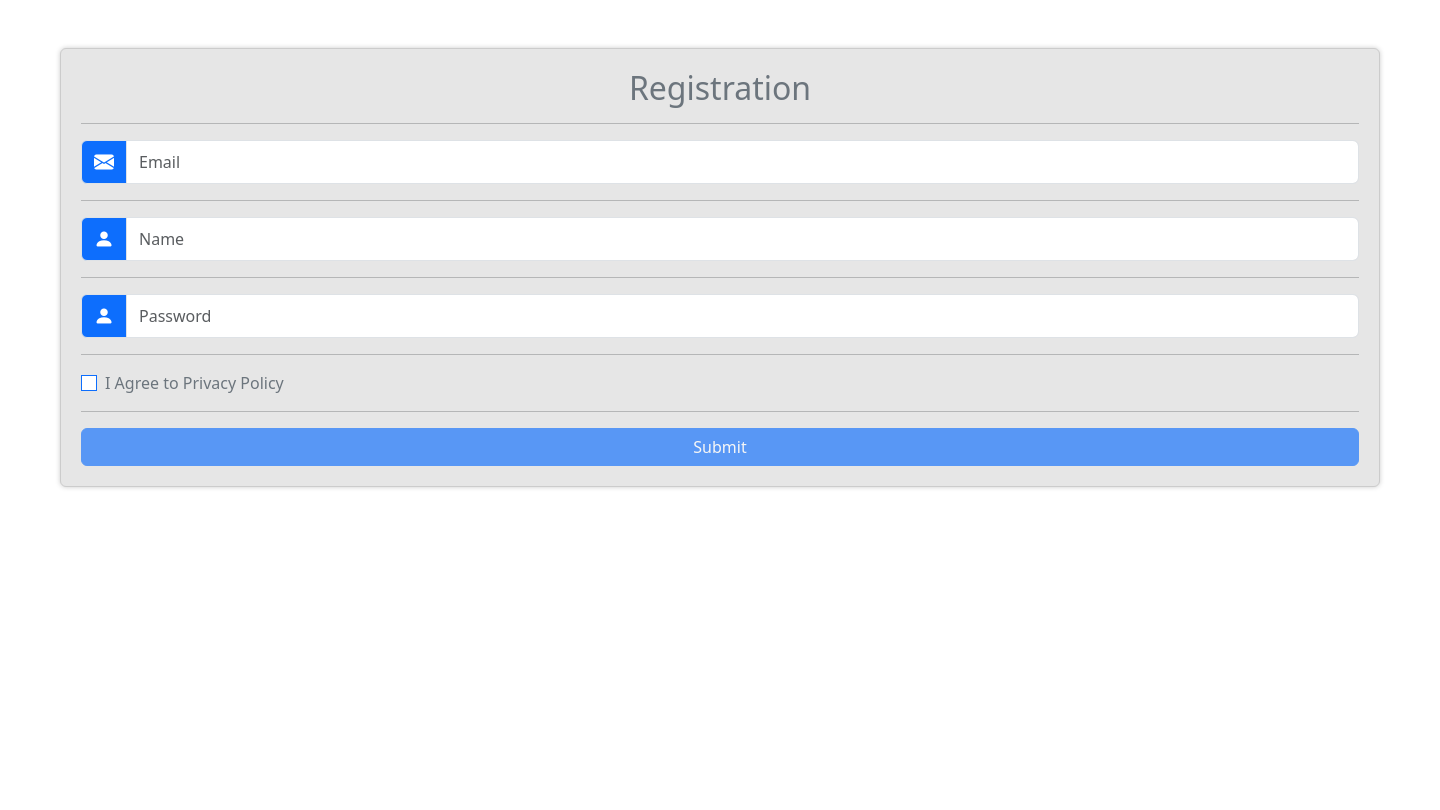
Test: Pruebas en <FormularioRegistro /> › debe no mostrar mensaje si la validación de campos no es correcta
This screenshot has width=1440, height=810.
Step 1. Type "11" into the field labelled "Name" → (742, 239), box [126,217,1359,261]
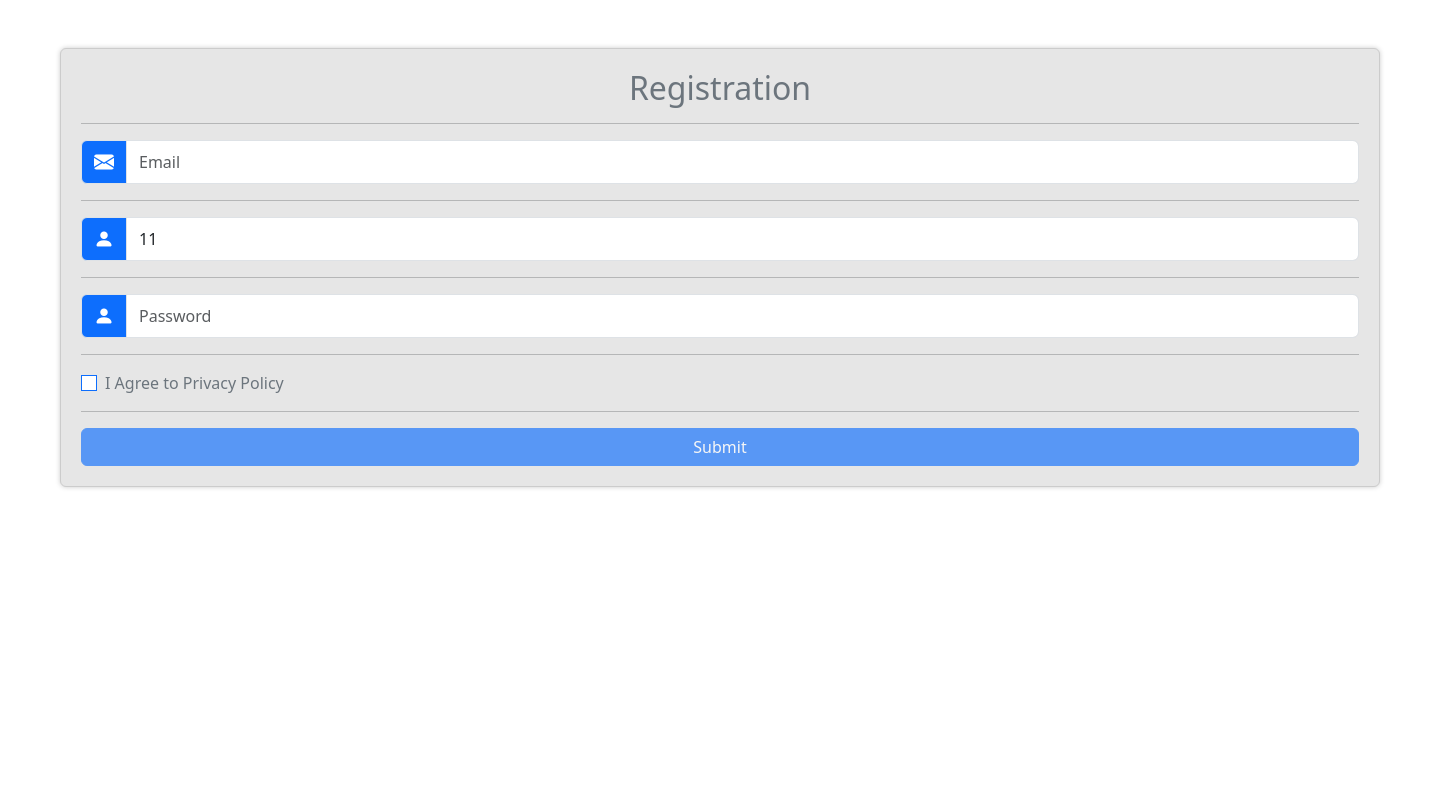
Step 2. Type "pruebacorreo.com" into the field labelled "Email" → (742, 162), box [126,140,1359,184]
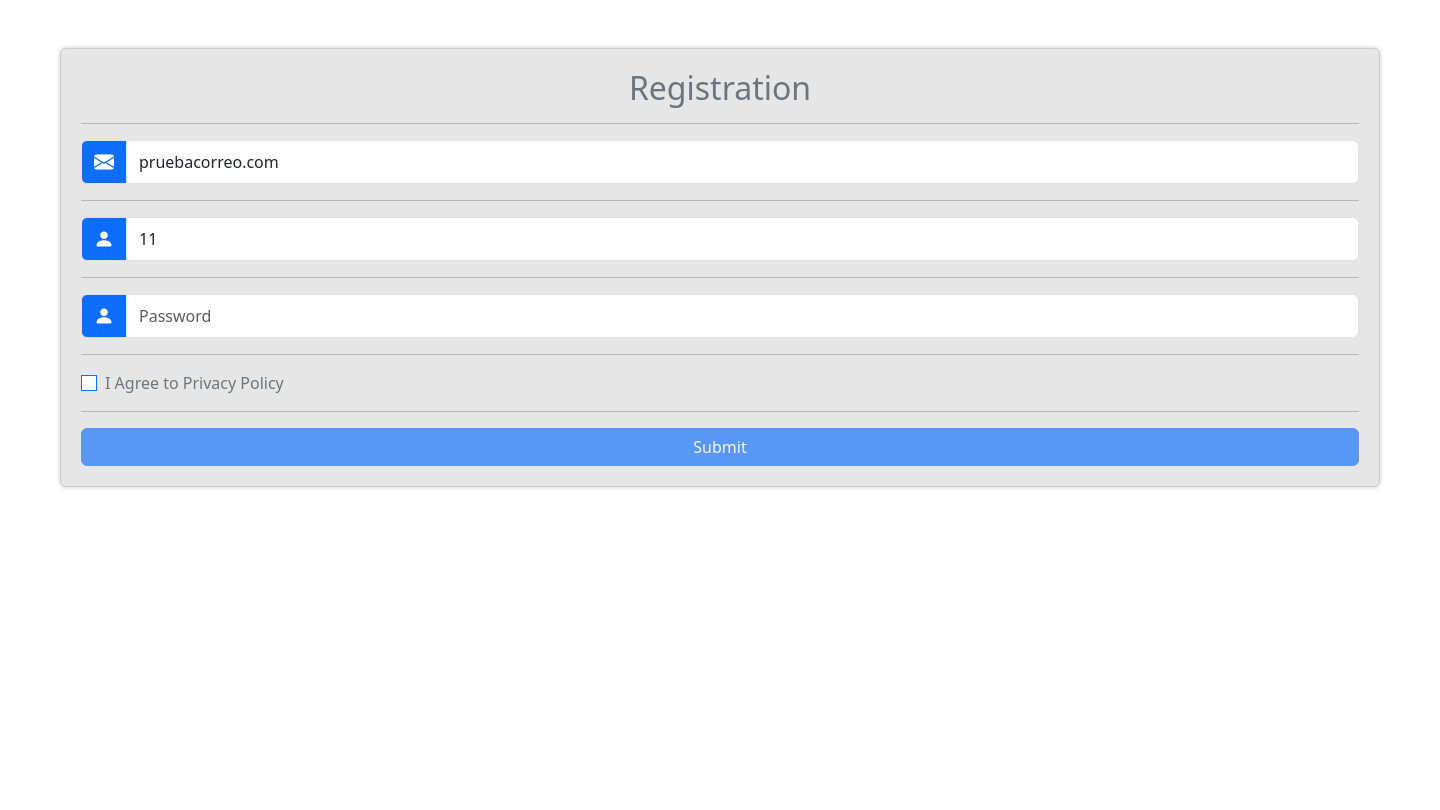
Step 3. Type "aaaaaaa" into the password field with test id "password" → (742, 316), box [126,294,1359,338]
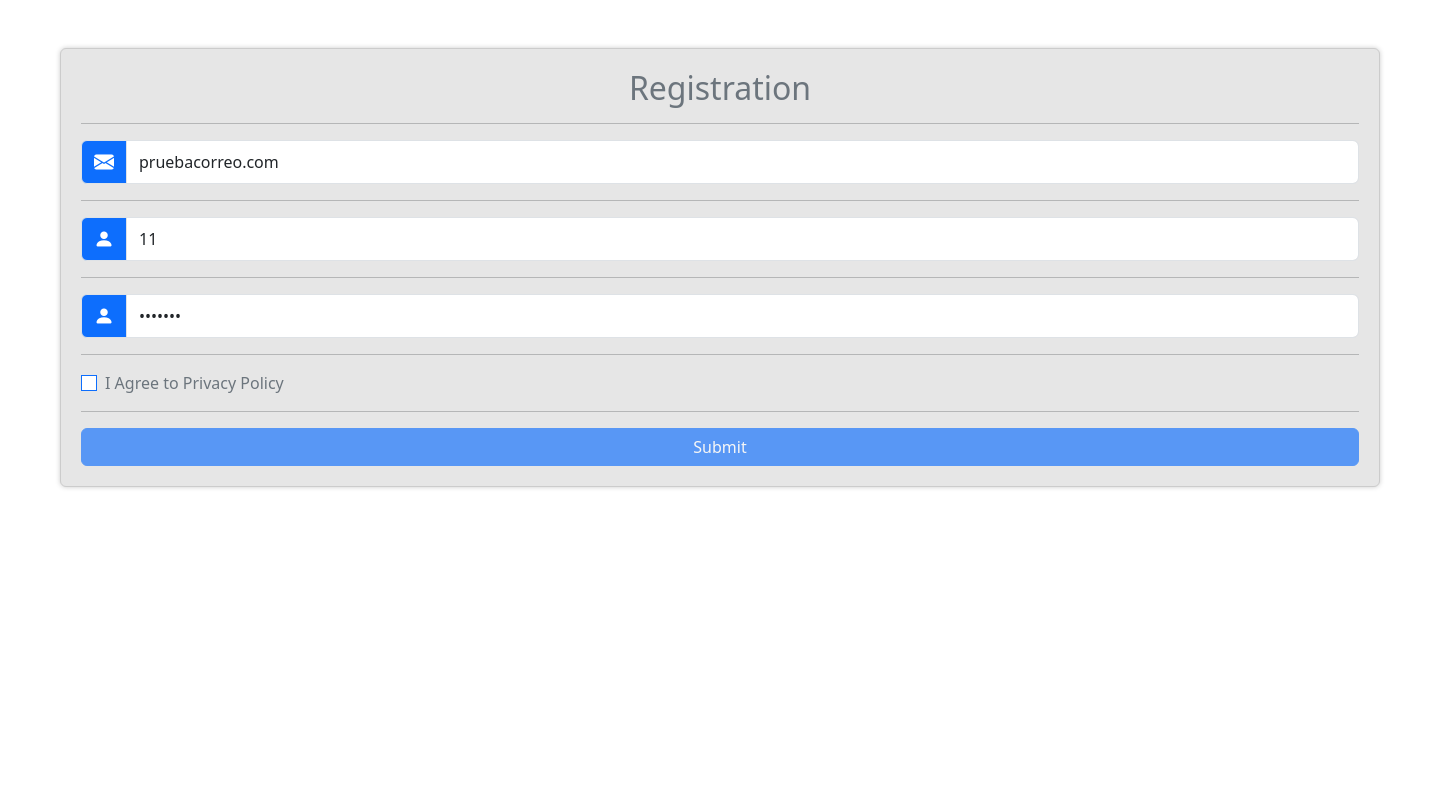
Step 4. Click the checkbox named "check-privacy-policy" → (89, 383), box [81,375,97,391]
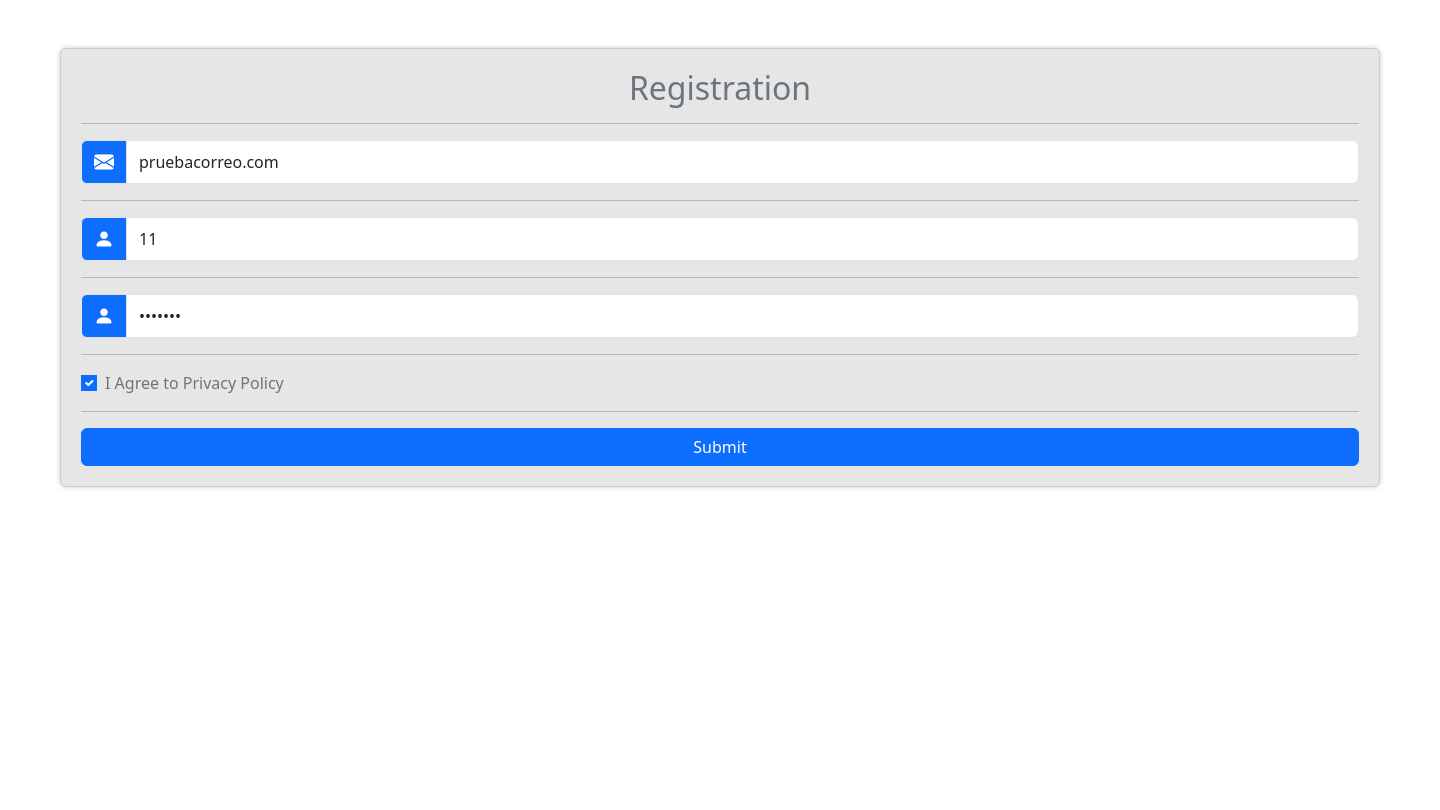
Step 5. Click the button with aria-label "btn-submit" → (720, 447), box [81,428,1359,466]
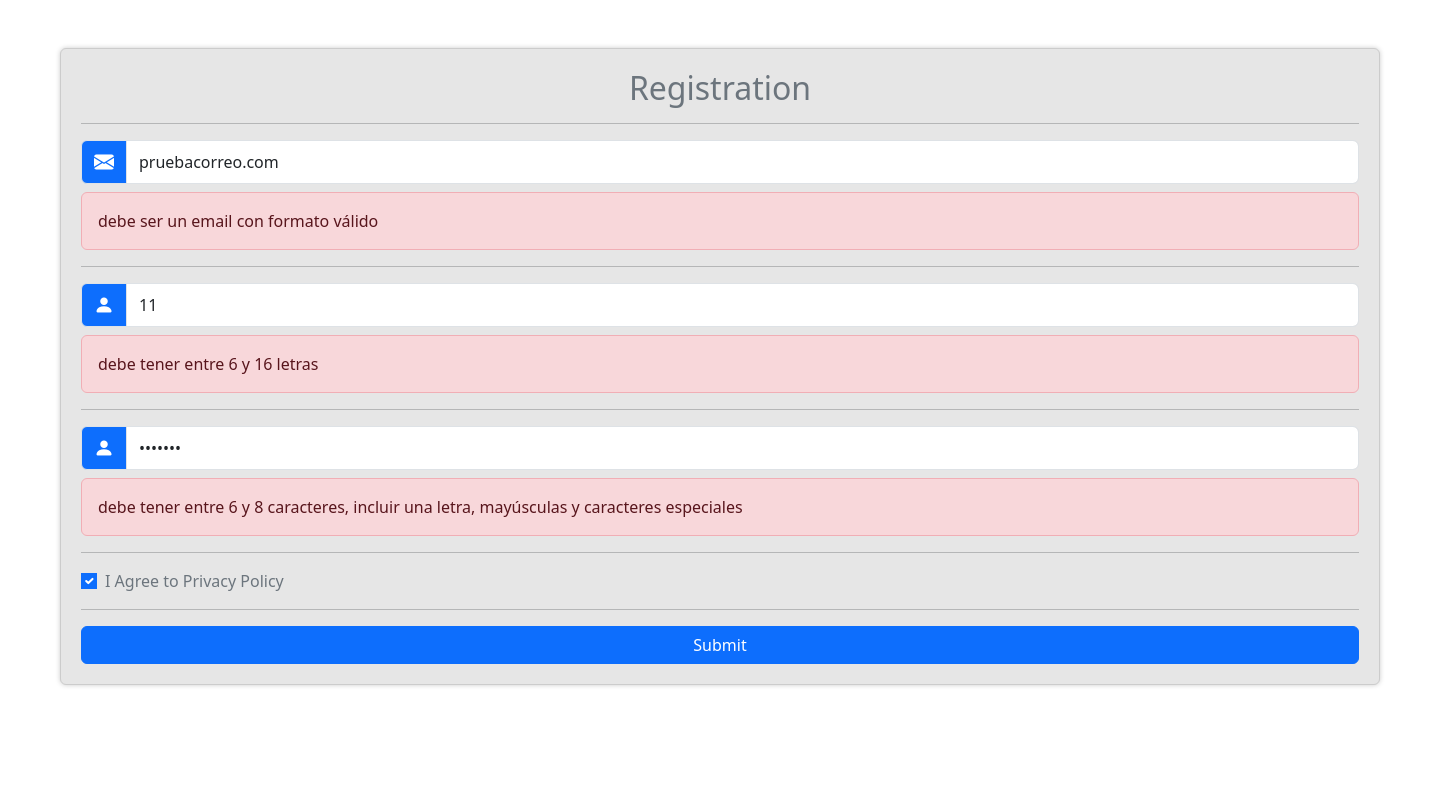
Expected: the number of messages with class "alert-danger" is 3, [81,192,1359,250]; [81,335,1359,393]; [81,478,1359,536]
